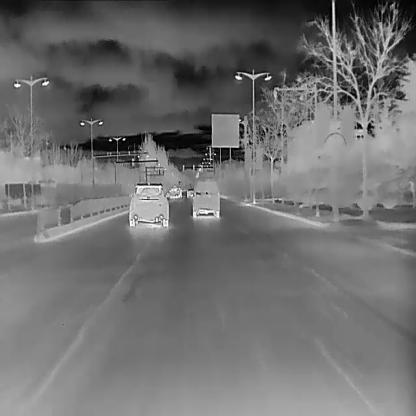car: (127, 180, 169, 227), (191, 175, 220, 217), (168, 186, 180, 198), (172, 184, 182, 196), (186, 187, 196, 197)
